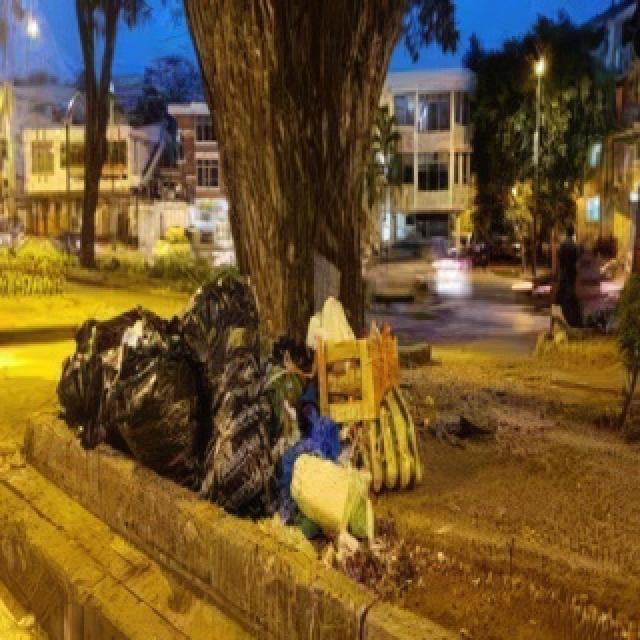high trash: (58, 274, 422, 538)
